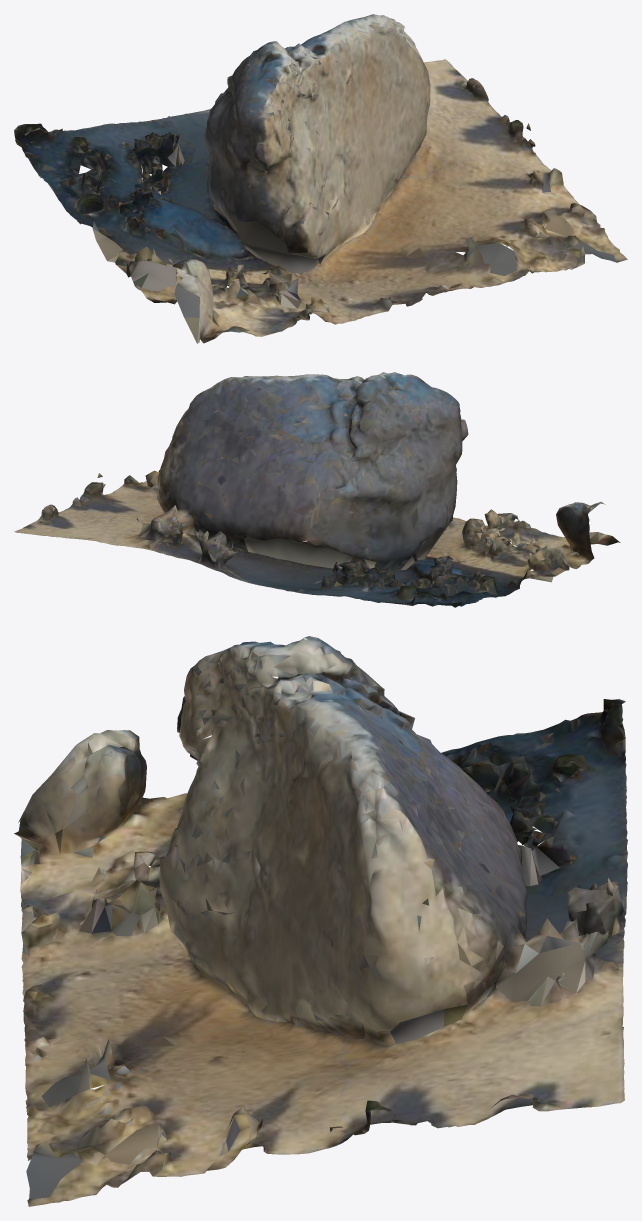
Rendered from low-resolution-model-2.glb.
The picture shows the model from 3 angles, top to bottom: view 1: azimuth 30°, elevation 25°; view 2: azimuth 150°, elevation 25°; view 3: azimuth 270°, elevation 25°; orthographic projection. The views are drawn at different scales.
Visible parts, largest first — view 1: sunnysideboulder; view 2: sunnysideboulder; view 3: sunnysideboulder.
Part boxes in pixels (box(x1,y1,x2,y2)): sunnysideboulder: box(14, 14, 627, 343); sunnysideboulder: box(14, 372, 620, 607); sunnysideboulder: box(14, 636, 627, 1206).
Size of the model in its own units: 17.66 by 8.32 by 13.01.
1 material, 1 textured.
